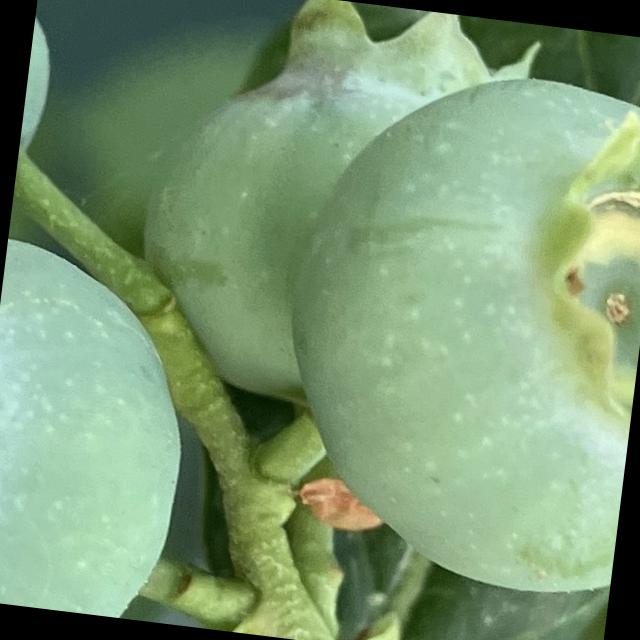Blueberries: (255, 42, 640, 604), (0, 231, 207, 623)
